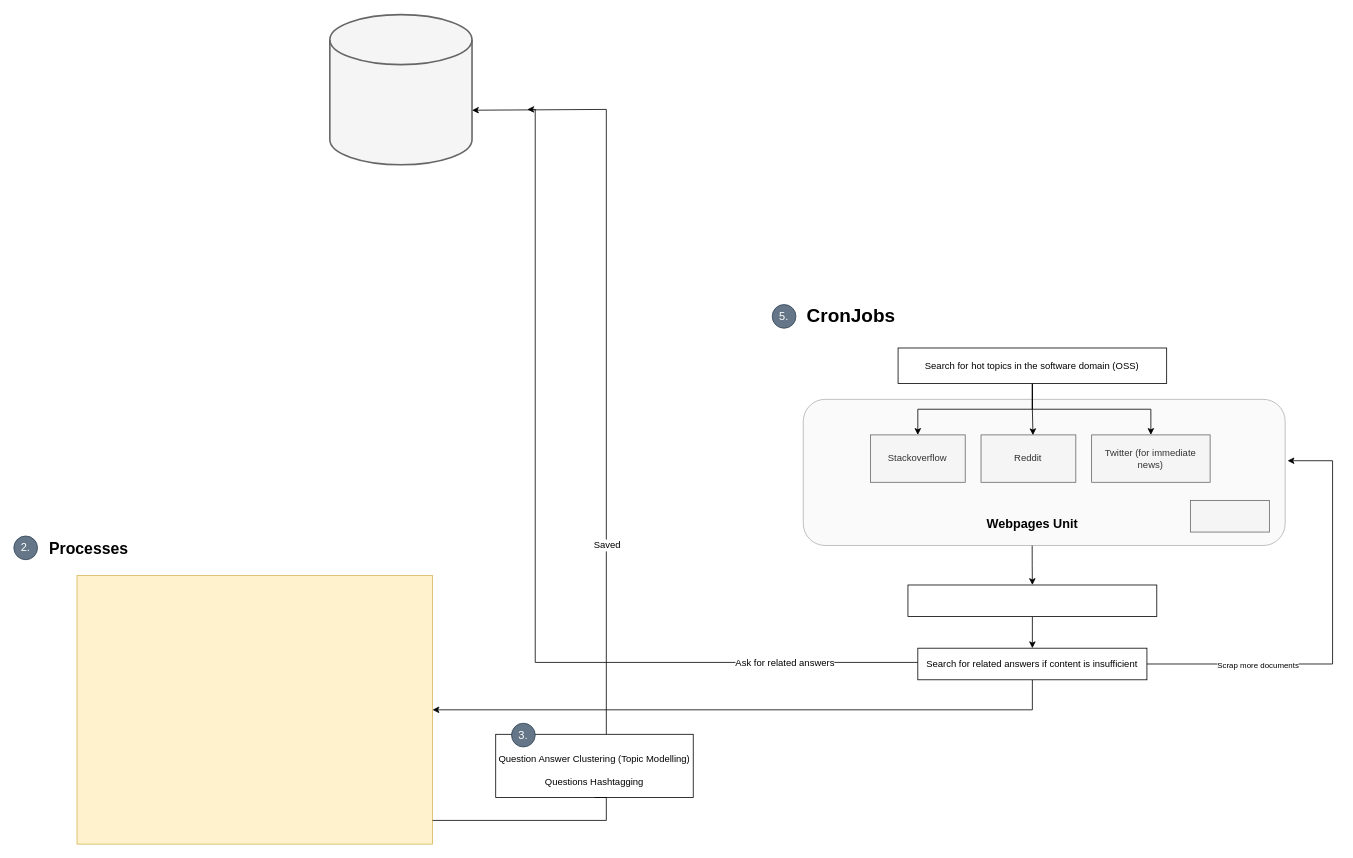
Some shapes in this 1353 by 858 pixel diagram are drawn without their labels. Each missing label, with the centre of its shape:
FAQs Repository: (x=400, y=89)
Github: (x=1229, y=516)
Inference Engine: (x=254, y=709)
Preprocessing (keywords selection): (x=1032, y=600)
